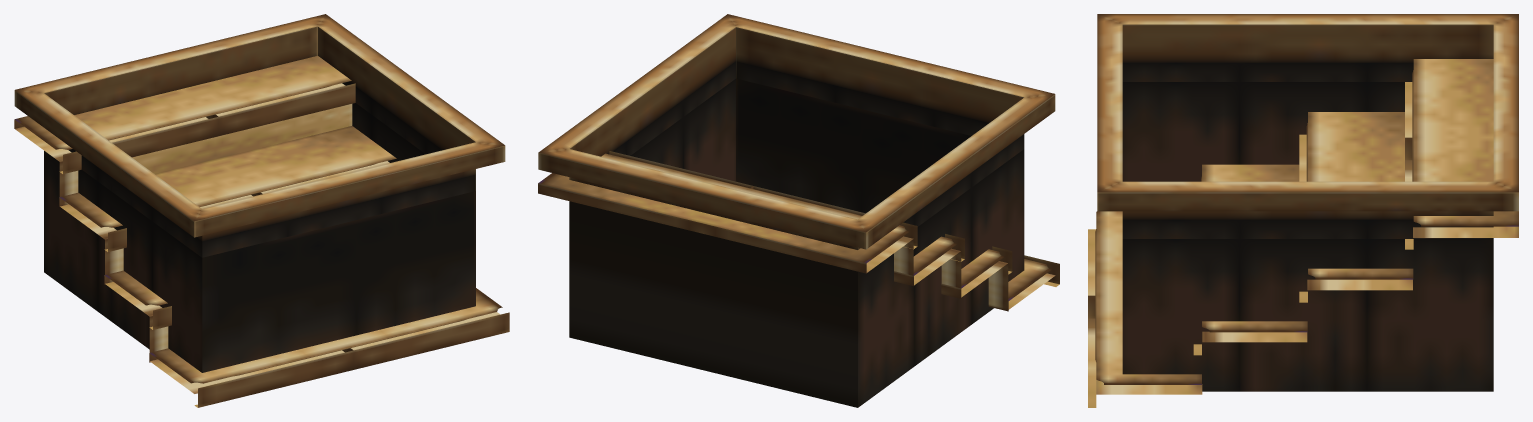
The model's file is Inside_Poly_Stairs_02_Down.obj.
The picture shows the model from 3 angles, left to right: view 1: azimuth 30°, elevation 25°; view 2: azimuth 150°, elevation 25°; view 3: azimuth 270°, elevation 25°; orthographic projection. The views are drawn at different scales.
Parts seen in each view (by area): view 1: Cube, Cube.004, Cube.001; view 2: Cube, Cube.004, Cube.001; view 3: Cube, Cube.004, Cube.001.
Part boxes in pixels (x1,y1,x2,y2): Cube: [14, 14, 505, 372]; Cube.004: [14, 56, 509, 407]; Cube.001: [15, 83, 500, 393]; Cube: [538, 14, 1055, 407]; Cube.004: [538, 151, 1059, 311]; Cube.001: [866, 236, 1055, 309]; Cube: [1097, 14, 1518, 391]; Cube.004: [1088, 59, 1518, 407]; Cube.001: [1096, 123, 1518, 394].
Size of the model in its own units: 1 by 0.564 by 1.02.
Materials: 1 (1 with a texture image).
